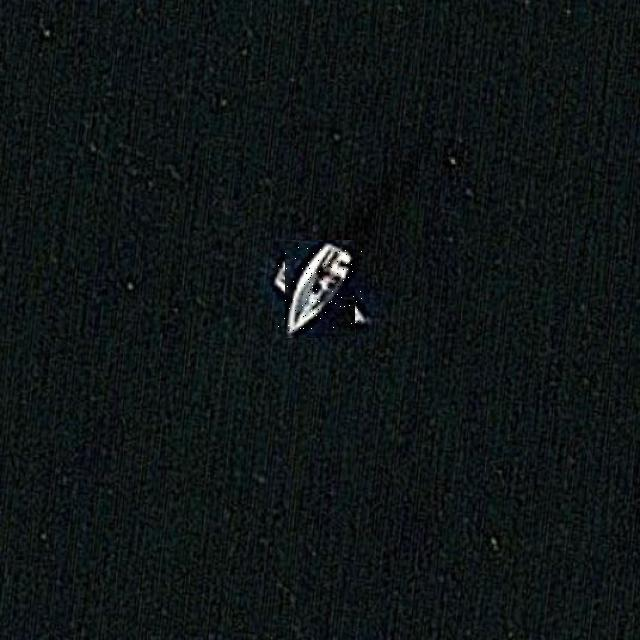boat: (278, 247, 362, 332)
